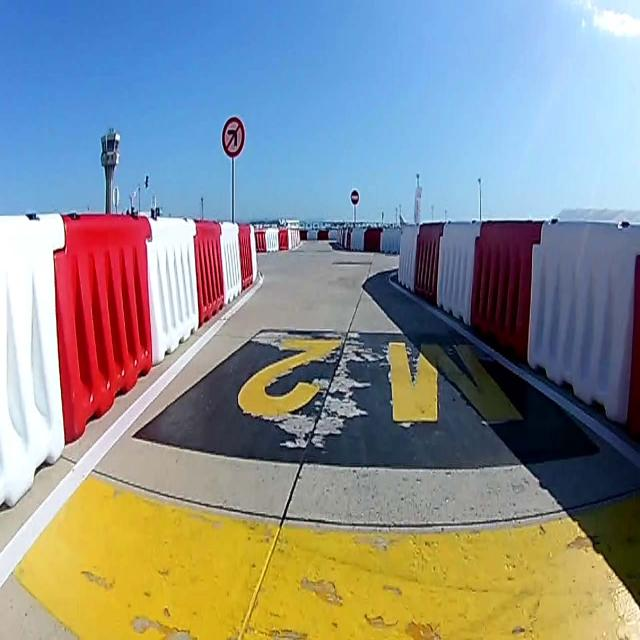girisyok: (350, 190, 359, 206)
soladonulmez: (221, 116, 245, 158)
